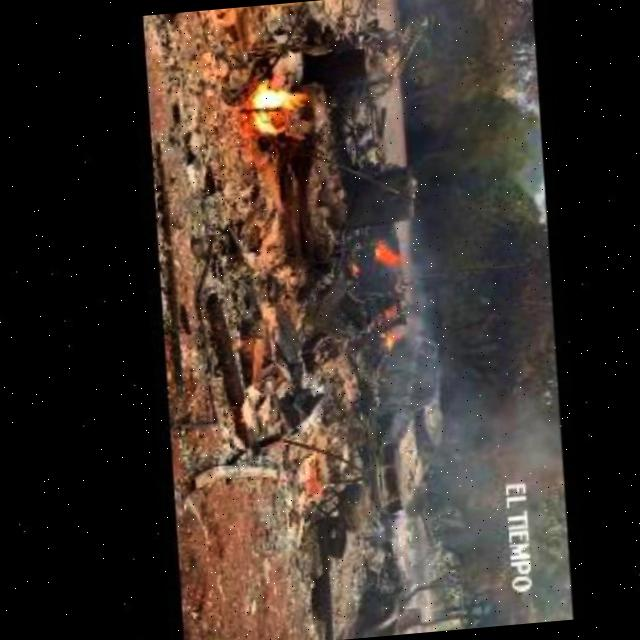fire: (235, 75, 302, 140), (367, 233, 401, 264)
